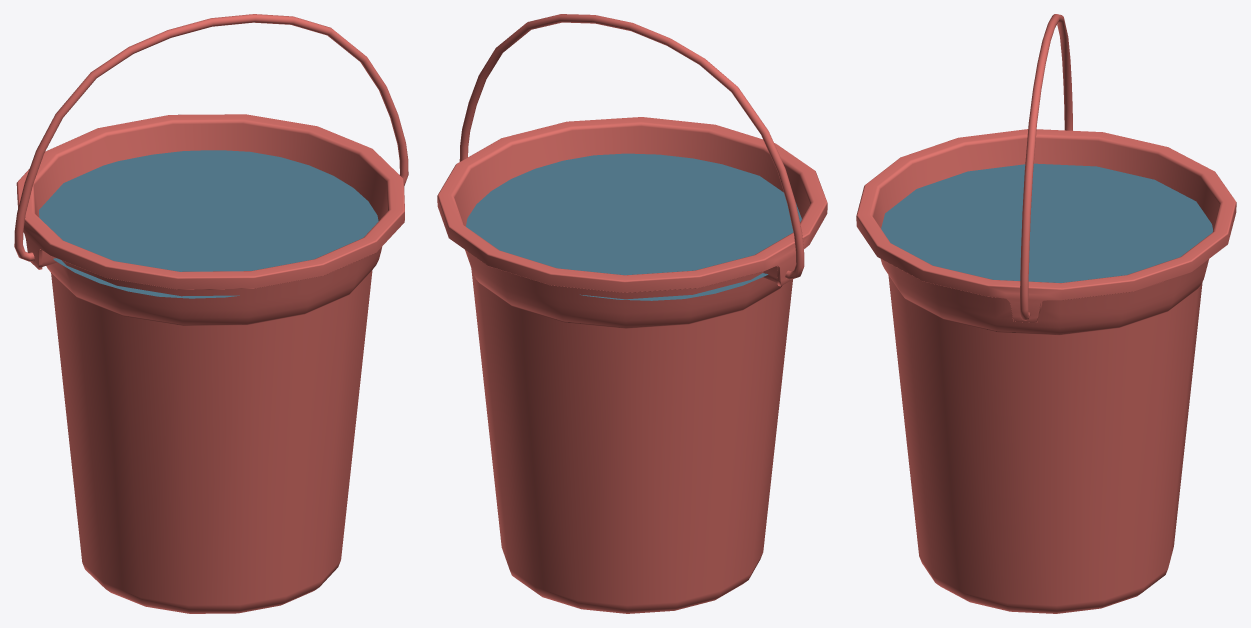
The model's file is balde.fbx.
3 views of the same model, side by side, from view 1: azimuth 30°, elevation 25°; view 2: azimuth 150°, elevation 25°; view 3: azimuth 270°, elevation 25° (orthographic). The views are drawn at different scales.
Parts seen in each view (by area): view 1: rv_bucket.001, Plane.005; view 2: rv_bucket.001, Plane.005; view 3: rv_bucket.001, Plane.005.
Boxes of the visible parts, x1,y1,x2,y2 form: rv_bucket.001: (14, 14, 408, 613); Plane.005: (39, 150, 378, 298); rv_bucket.001: (437, 14, 827, 613); Plane.005: (466, 153, 801, 300); rv_bucket.001: (856, 14, 1236, 613); Plane.005: (881, 163, 1212, 282).
Bounding box in the file's own units: 229 × 323 × 210.
